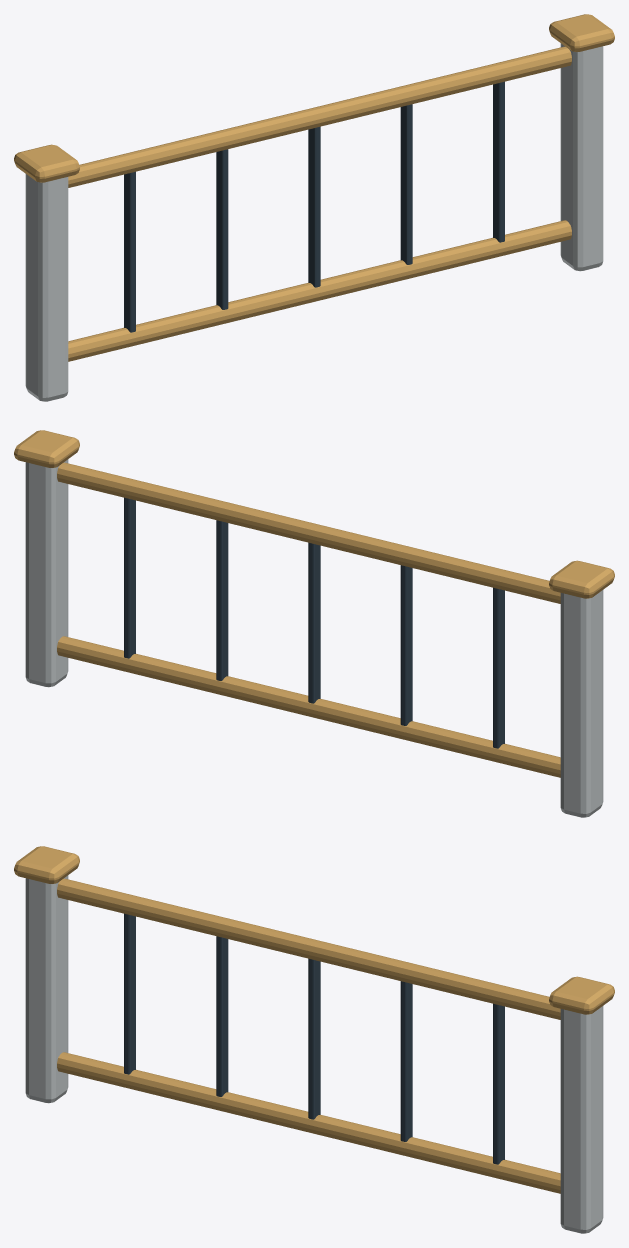
Rendered from SM_Railing.fbx.
3 renders of one model, top to bottom at view 1: azimuth 30°, elevation 25°; view 2: azimuth 150°, elevation 25°; view 3: azimuth 330°, elevation 25°, orthographic.
Visible parts, largest first — view 1: SM_Railing; view 2: SM_Railing; view 3: SM_Railing.
Part boxes in pixels (left/top/right/bottom): SM_Railing: left=14, top=14, right=614, bottom=401; SM_Railing: left=14, top=430, right=614, bottom=817; SM_Railing: left=14, top=846, right=614, bottom=1233.
Size of the model in its own units: 314 by 26 by 124.
